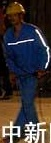boots: (0, 112, 7, 128)
hard-hat: (0, 0, 26, 31)
ppe-suit: (0, 0, 26, 93)
